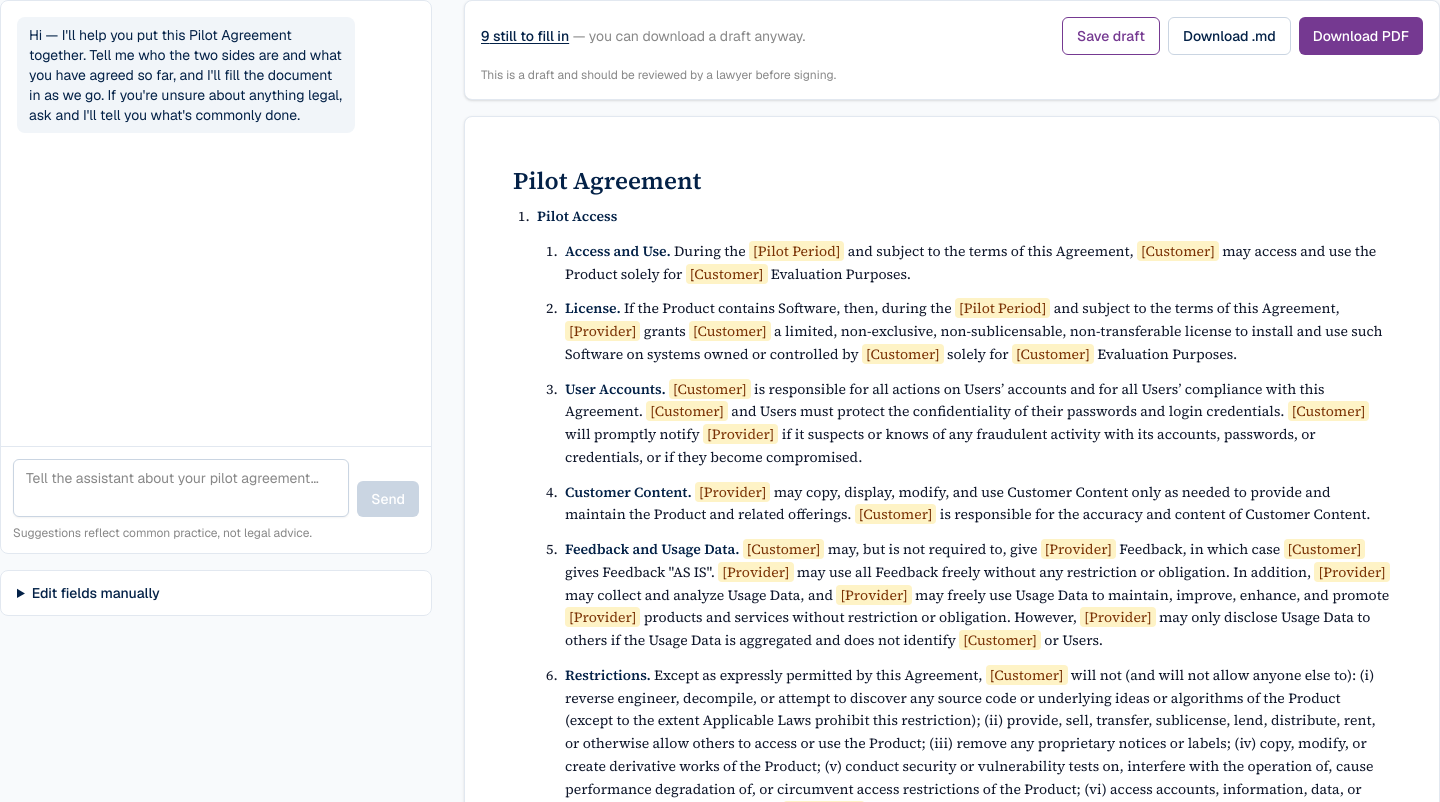
Test: the creator › fills a party without disturbing the other
The width and height of the screenshot is (1440, 802).
Type "We are Acme." into the text box named "Message the drafting assistant" at x=181, y=488, box top-left (13, 459), bottom-right (349, 517)
Then press Enter
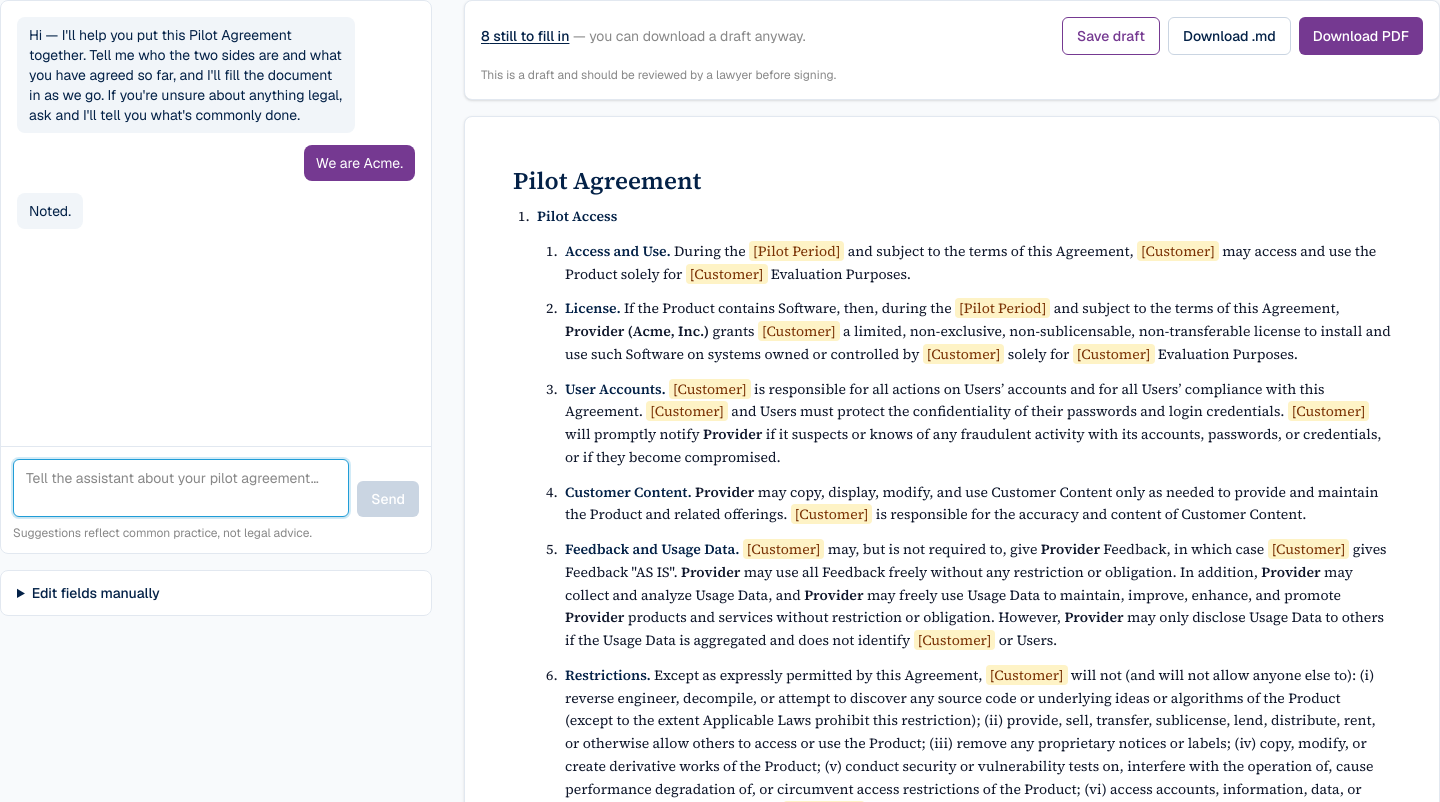
expect the text "Provider (Acme, Inc.)" is shown: met, box top-left (565, 321), bottom-right (709, 341)
